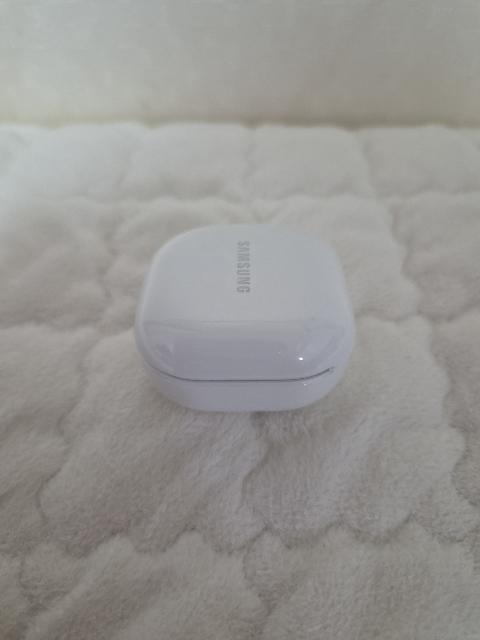earphone_case: (134, 223, 355, 412)
